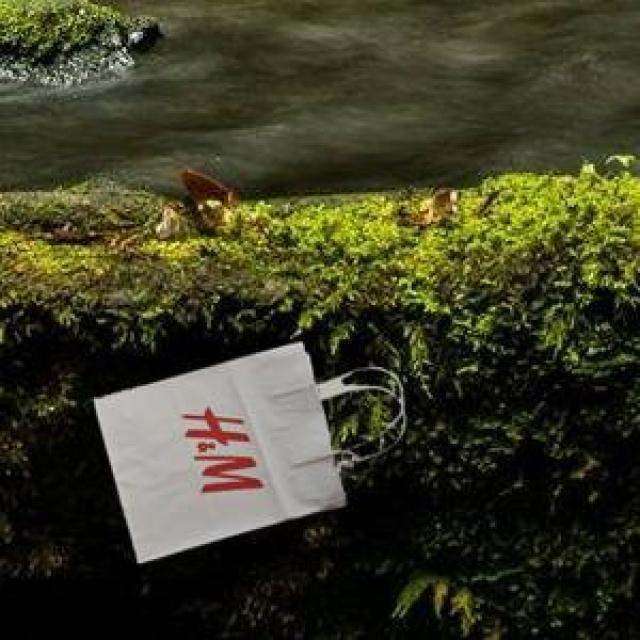paper: (91, 339, 401, 559)
